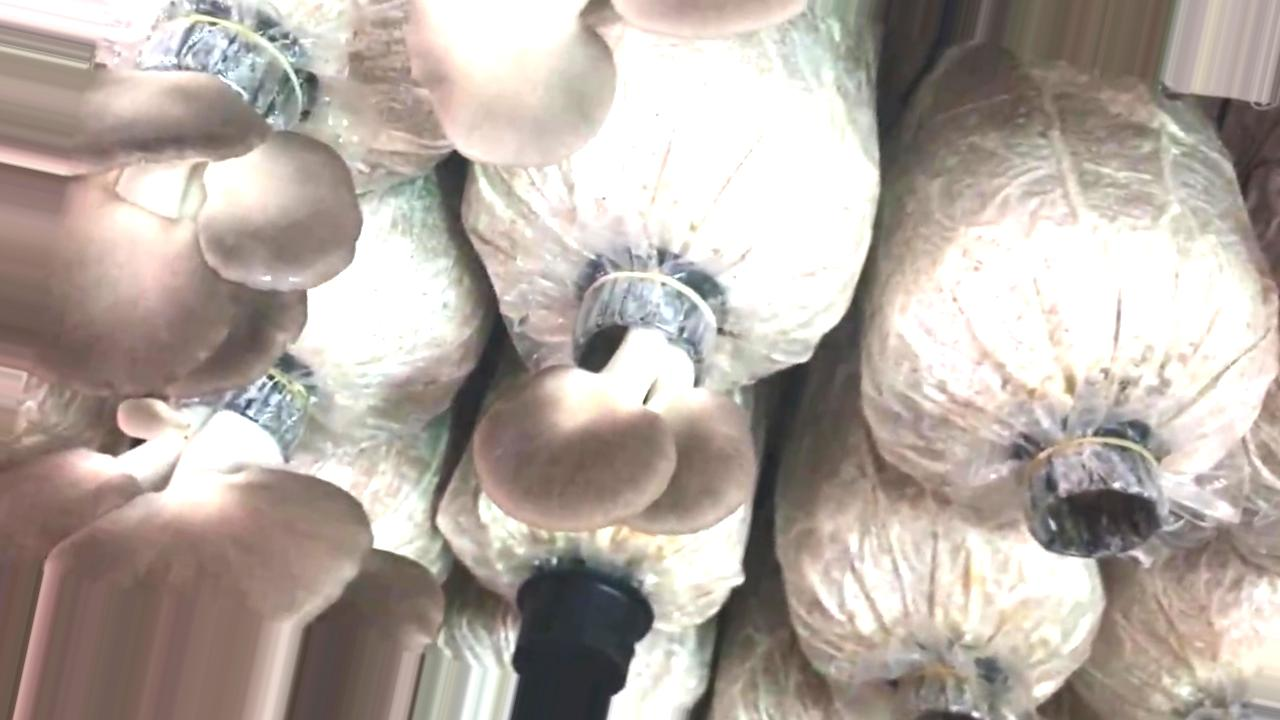nam: (1, 356, 441, 720), (1, 1, 361, 395), (470, 271, 756, 535), (405, 1, 614, 166), (609, 1, 807, 39)
